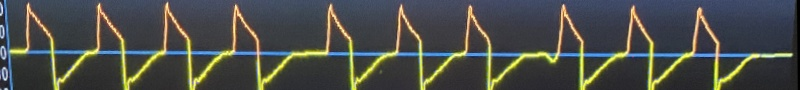normal_flow: (8, 0, 758, 90)
